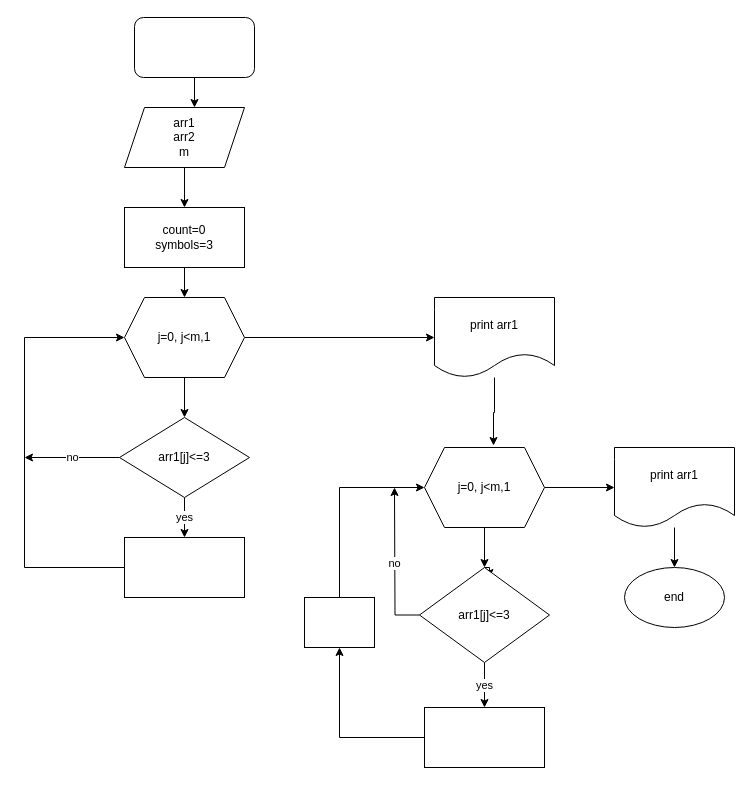
The diagram is 752 pixels wide and 785 high, and some of its shapes have lost their labels. Each missing label, with the box of its shape:
arr2[g]=arr1[j]: (424, 706, 544, 768)
count++: (124, 536, 244, 598)
g++: (304, 596, 374, 648)
start: (134, 16, 254, 78)
